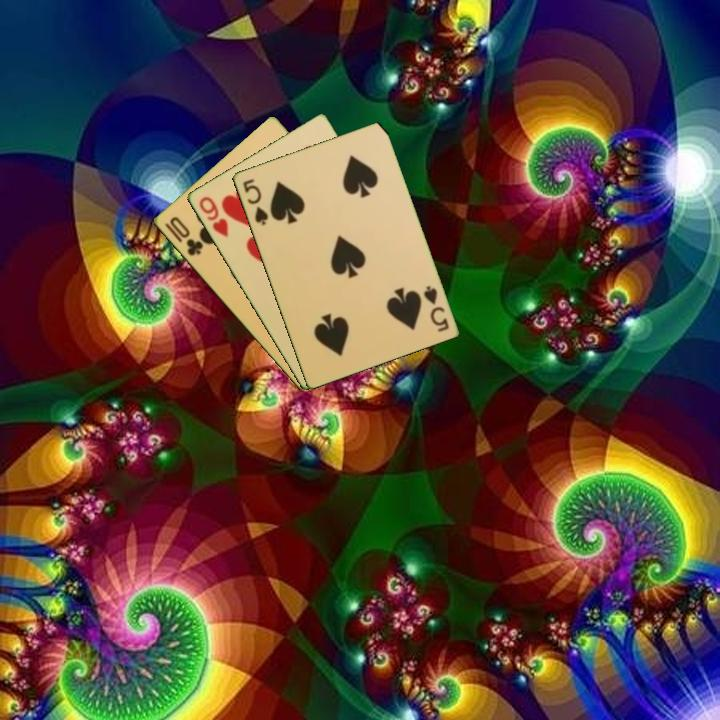10c: (166, 213, 206, 259)
5s: (239, 175, 271, 228), (420, 282, 451, 335)
9h: (195, 193, 231, 240)
